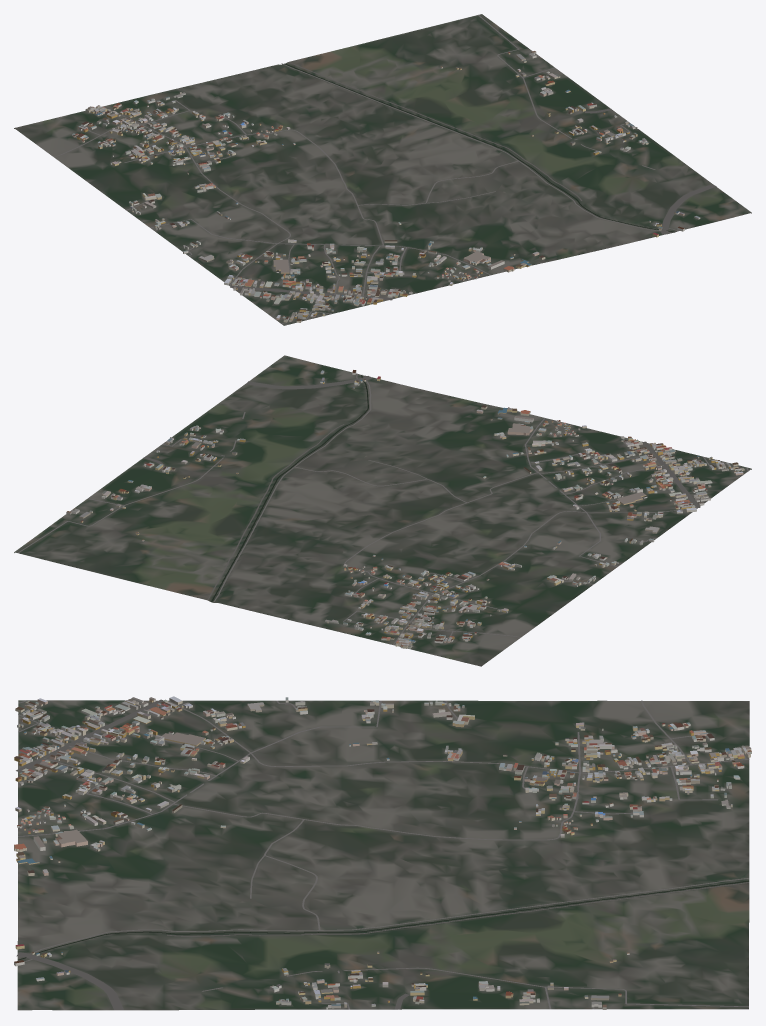
3 views of the same model, one above another, from view 1: azimuth 30°, elevation 25°; view 2: azimuth 150°, elevation 25°; view 3: azimuth 270°, elevation 25° (orthographic). The views are drawn at different scales.
Parts seen in each view (by area): view 1: ground, buildings, roads, water; view 2: ground, buildings, roads; view 3: ground, buildings, roads, water.
Boxes of the visible parts, x1,y1,x2,y2 form: ground: (14,14,751,325); buildings: (72,51,700,322); roads: (54,15,716,324); water: (284,63,674,232); ground: (14,355,751,666); buildings: (66,370,744,648); roads: (18,373,748,646); ground: (17,700,749,1010); buildings: (14,696,751,1009); roads: (16,699,749,1010); water: (18,880,748,960).
Size of the model in its own units: 1408 by 18.74 by 1413.
